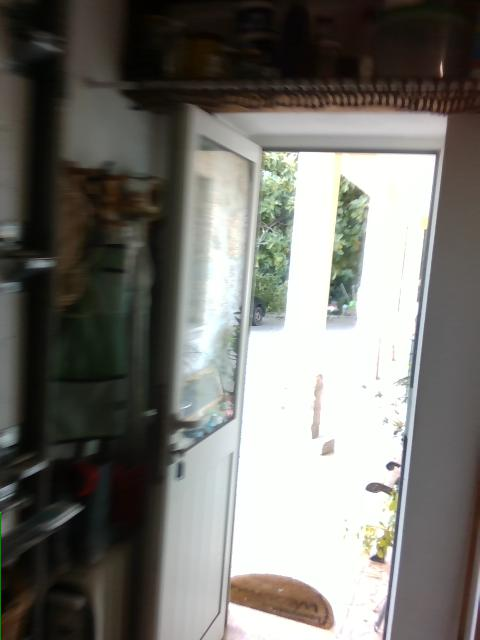door: (137, 101, 265, 640)
